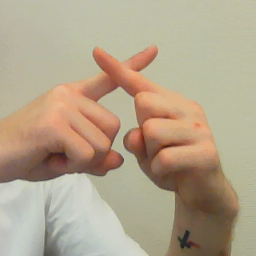X: (16, 43, 224, 178)
